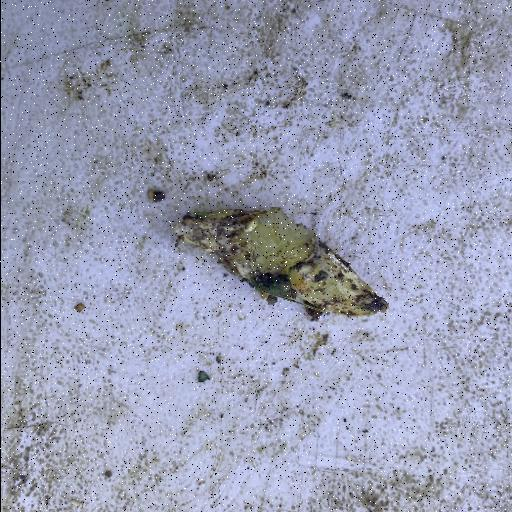Waste: (172, 204, 390, 320)
